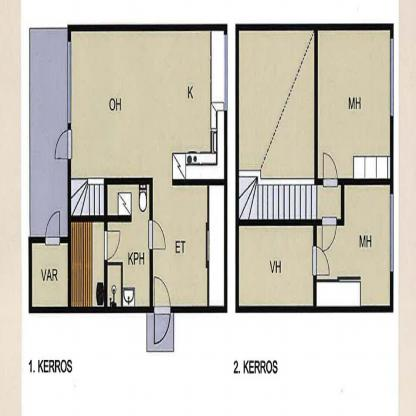door: (154, 276, 171, 340), (52, 130, 73, 165), (44, 212, 63, 250), (320, 217, 338, 255), (148, 221, 169, 253), (321, 152, 338, 188), (312, 246, 330, 280), (104, 232, 121, 258)
window: (67, 46, 72, 123), (388, 39, 392, 118), (224, 36, 228, 111), (390, 195, 394, 269)
zone: (72, 32, 224, 181), (240, 30, 315, 180), (318, 33, 391, 182), (318, 185, 390, 307), (156, 182, 225, 306), (29, 29, 68, 236), (240, 225, 314, 304), (106, 186, 150, 307), (239, 179, 317, 222), (72, 220, 105, 307), (32, 244, 68, 307), (72, 180, 104, 214), (318, 185, 342, 217)
